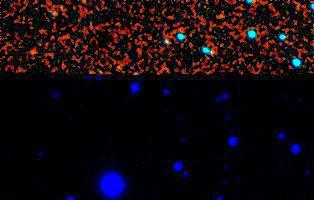star: (21, 37, 51, 67)
